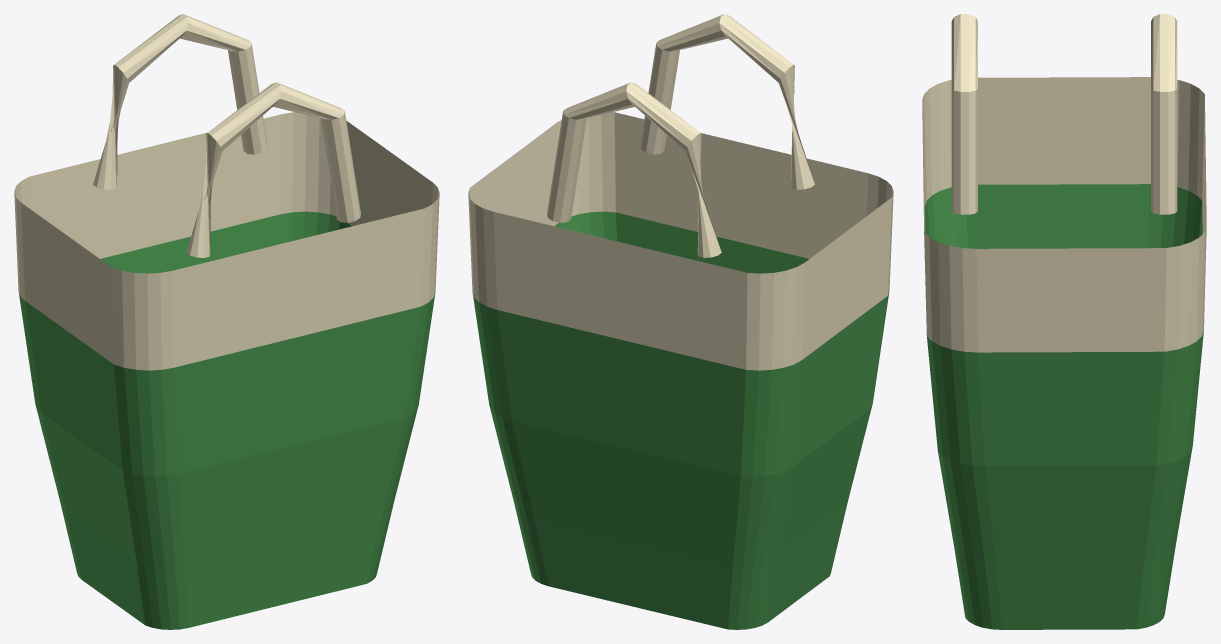
The model's file is basket.obj.
The picture shows the model from 3 angles, left to right: view 1: azimuth 30°, elevation 25°; view 2: azimuth 150°, elevation 25°; view 3: azimuth 270°, elevation 25°; orthographic projection. The views are drawn at different scales.
Size of the model in its own units: 1.22 by 1.85 by 0.8568.
